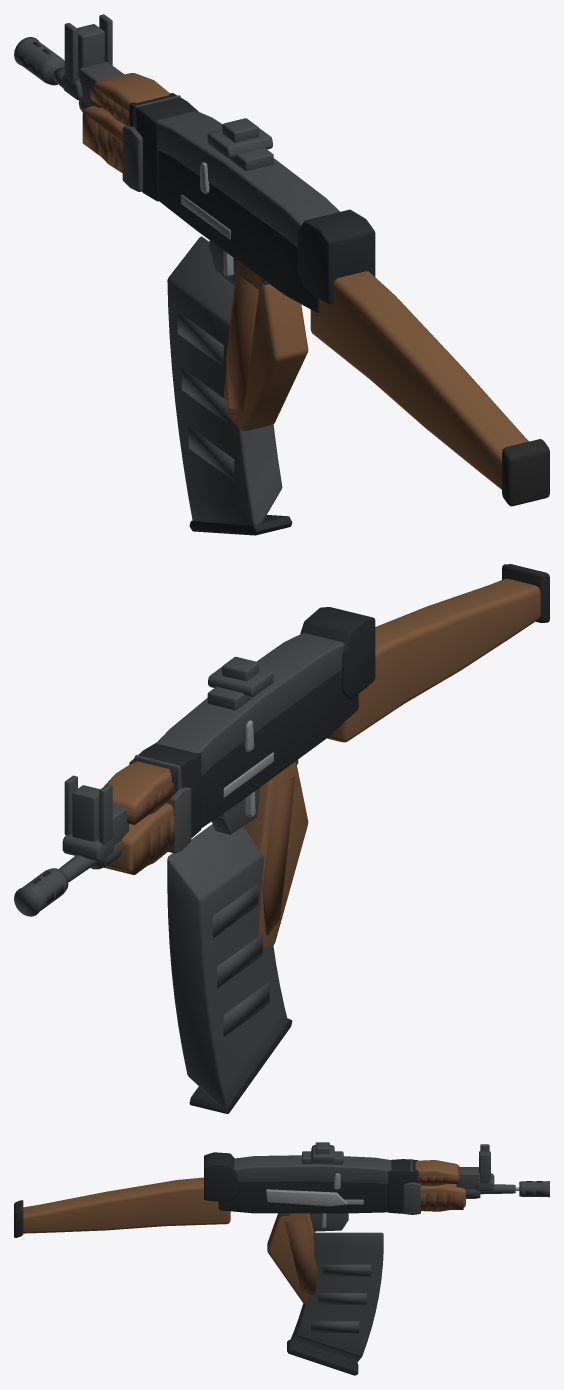
The picture shows the model from 3 angles, top to bottom: view 1: azimuth 30°, elevation 25°; view 2: azimuth 150°, elevation 25°; view 3: azimuth 270°, elevation 25°; orthographic projection. The views are drawn at different scales.
Visible parts, largest first — view 1: Stock, Barrel_Batched, FrontTrunnion_Batched, MagazineBody, LowerHandguard_Batched, LowerHandguardSlot0_Batched, ButtPlate, MagazineBodyFloorPlate, MagazineBodyRib0_-1, MagazineBodyRib1_-1, MagazineBodyRib2_-1; view 2: MagazineBody, Barrel_Batched, FrontTrunnion_Batched, Stock, LowerHandguard_Batched, LowerHandguardSlot0_Batched, MagazineBodyFloorPlate, ButtPlate, MagazineBodyRib2_-1, MagazineBodyRib0_-1, MagazineBodyRib1_-1, TriggerAssemblyGuard; view 3: Stock, MagazineBody, Barrel_Batched, FrontTrunnion_Batched, LowerHandguard_Batched, LowerHandguardSlot0_Batched, SafetyLever.001, MagazineBodyFloorPlate, MagazineBodyRib0_1, TriggerAssemblyGuard, MagazineBodyRib1_1, MagazineBodyRib2_1 (+1 smaller).
Part boxes in pixels (x1,y1,x2,y2): Stock: (310, 271, 528, 489); Barrel_Batched: (14, 14, 339, 247); FrontTrunnion_Batched: (20, 42, 375, 312); MagazineBody: (167, 236, 282, 524); LowerHandguard_Batched: (83, 73, 308, 431); LowerHandguardSlot0_Batched: (82, 84, 258, 410); ButtPlate: (502, 439, 549, 506); MagazineBodyFloorPlate: (189, 515, 292, 535); MagazineBodyRib0_-1: (177, 312, 223, 366); MagazineBodyRib1_-1: (181, 368, 227, 422); MagazineBodyRib2_-1: (188, 426, 234, 480); MagazineBody: (167, 824, 287, 1105); Barrel_Batched: (14, 633, 344, 916); FrontTrunnion_Batched: (33, 607, 375, 903); Stock: (327, 578, 540, 742); LowerHandguard_Batched: (104, 761, 308, 947); LowerHandguardSlot0_Batched: (104, 776, 295, 935); MagazineBodyFloorPlate: (189, 1018, 292, 1113); ButtPlate: (502, 564, 549, 622); MagazineBodyRib2_-1: (223, 982, 269, 1036); MagazineBodyRib0_-1: (213, 883, 258, 937); MagazineBodyRib1_-1: (217, 933, 262, 988); TriggerAssemblyGuard: (211, 787, 260, 834); Stock: (23, 1177, 230, 1233); MagazineBody: (290, 1232, 383, 1363); Barrel_Batched: (234, 1142, 549, 1214); FrontTrunnion_Batched: (204, 1152, 543, 1213); LowerHandguard_Batched: (267, 1160, 465, 1303); LowerHandguardSlot0_Batched: (285, 1165, 463, 1295); SafetyLever.001: (266, 1189, 347, 1206); MagazineBodyFloorPlate: (287, 1340, 358, 1375); MagazineBodyRib0_1: (322, 1264, 370, 1276); TriggerAssemblyGuard: (309, 1213, 348, 1231); MagazineBodyRib1_1: (318, 1293, 366, 1304); MagazineBodyRib2_1: (311, 1321, 359, 1332).
Bounding box in the file's own units: 0.056 × 0.4214 × 0.906.
